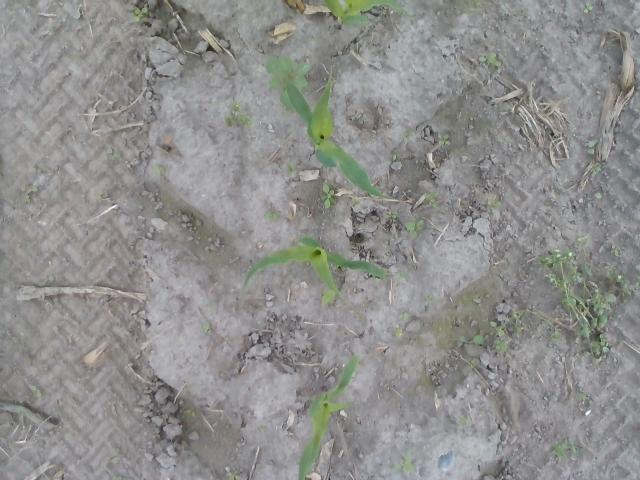Maize: (286, 82, 388, 198), (238, 236, 389, 300), (298, 353, 362, 480), (324, 0, 410, 29)
Weeds: (538, 246, 640, 356), (262, 53, 312, 106), (458, 320, 508, 354), (223, 99, 256, 127), (552, 438, 586, 462), (392, 451, 417, 473), (404, 216, 425, 241), (478, 52, 503, 72), (320, 182, 337, 209), (510, 308, 526, 336), (22, 184, 38, 207), (131, 3, 148, 22), (105, 145, 122, 161), (591, 160, 608, 176), (400, 128, 416, 144), (424, 191, 438, 208), (573, 233, 590, 247), (31, 382, 45, 399), (15, 404, 33, 417), (150, 164, 166, 178), (321, 290, 337, 304), (586, 140, 598, 158), (384, 210, 401, 222), (264, 210, 280, 222), (286, 163, 298, 178), (394, 270, 409, 282), (201, 319, 211, 336), (111, 446, 120, 464), (225, 470, 240, 480), (437, 134, 449, 146), (456, 415, 471, 424), (486, 198, 498, 209), (184, 406, 195, 418), (578, 391, 590, 401), (582, 3, 592, 14), (350, 198, 360, 208), (399, 310, 409, 320), (594, 190, 604, 200), (416, 384, 432, 390), (394, 328, 405, 336), (259, 423, 268, 432), (391, 153, 401, 161), (424, 293, 433, 301)
